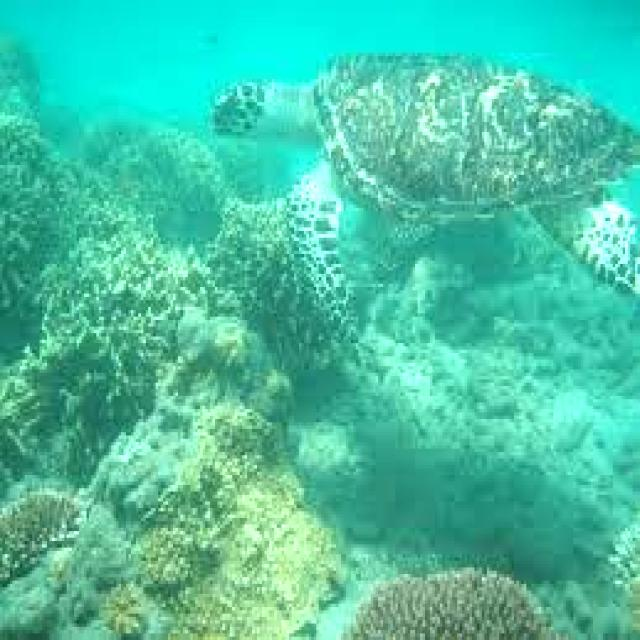Sea turtle: (197, 46, 640, 346)
